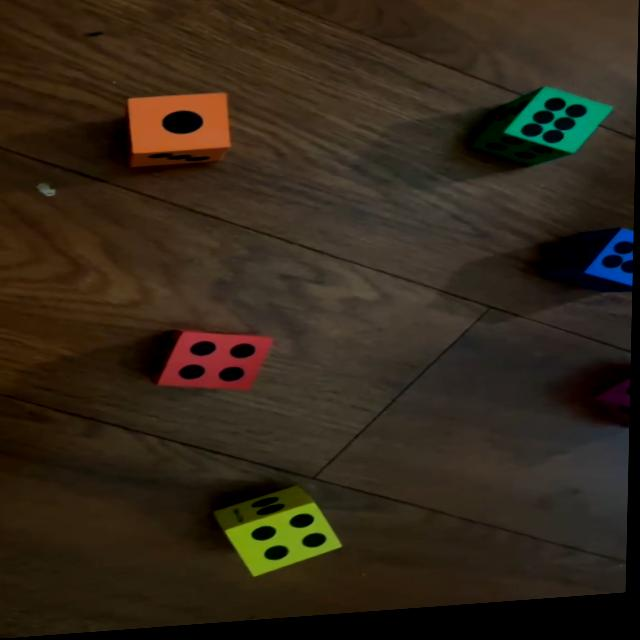cube: (475, 92, 615, 179), (150, 326, 276, 401), (552, 236, 635, 306)
